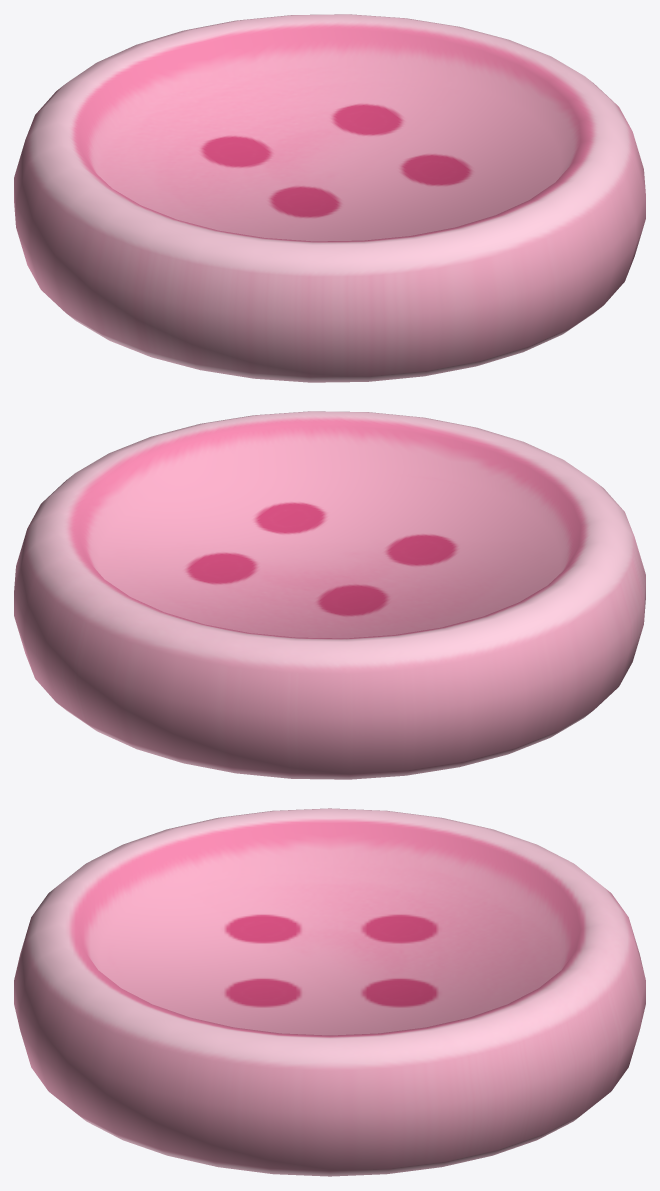
The model's file is button.glb.
The picture shows the model from 3 angles, top to bottom: view 1: azimuth 30°, elevation 25°; view 2: azimuth 150°, elevation 25°; view 3: azimuth 270°, elevation 25°; orthographic projection.
Visible parts, largest first — view 1: Cylinder; view 2: Cylinder; view 3: Cylinder.
Boxes of the visible parts, x1,y1,x2,y2 form: Cylinder: [14, 14, 645, 382]; Cylinder: [14, 411, 645, 779]; Cylinder: [14, 808, 645, 1176].
Size of the model in its own units: 2 by 0.4755 by 2.
Materials: 1 (1 with a texture image).
